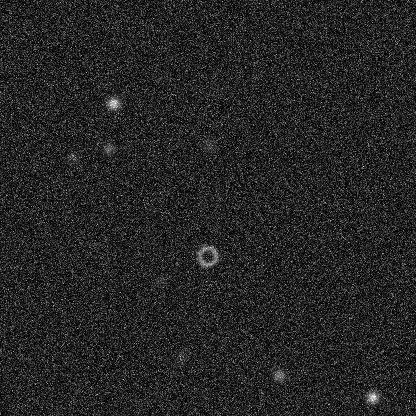Ring: (195, 244, 219, 268)
Spot: (173, 347, 189, 363), (201, 137, 217, 153), (271, 367, 287, 383), (101, 140, 117, 156), (65, 149, 81, 165), (105, 95, 121, 111), (152, 271, 168, 287), (364, 389, 380, 405)
